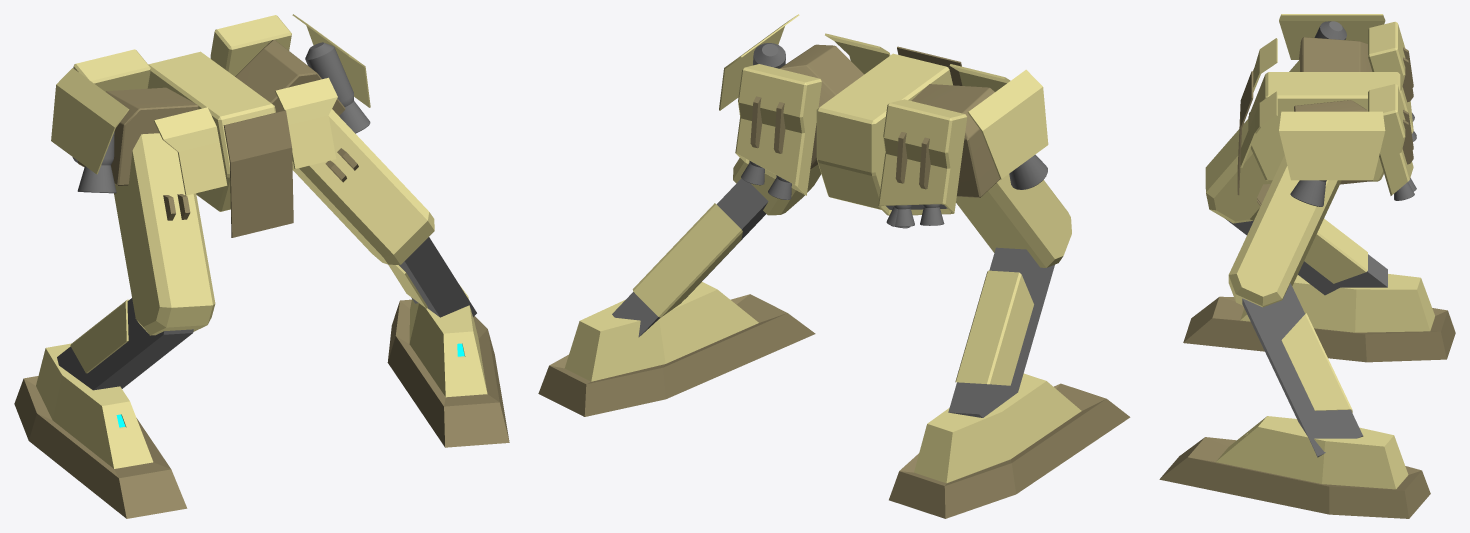
Rendered from LegsRight.fbx.
The picture shows the model from 3 angles, left to right: view 1: azimuth 30°, elevation 25°; view 2: azimuth 150°, elevation 25°; view 3: azimuth 270°, elevation 25°; orthographic projection. The views are drawn at different scales.
Parts seen in each view (by area): view 1: pasted__pCube48, pasted__pCube37, pasted__pCube47, pasted__pCube31, pasted__pasted__pCube36, pasted__pasted__pCube32, pasted__pPlane1, pasted__pCube38, pasted__pPlane4, pasted__pPlane3, pasted__pasted__pCube40, pasted__pasted__pCube39 (+7 smaller); view 2: pasted__pCube47, pasted__pCube48, pasted__pCube33 (×2), pasted__pasted__pCube32, pasted__pCube39, pasted__pCube43, pasted__pCube37, pasted__pPlane1, pasted__pCube38, pasted__pasted__pCube40, pasted__pCube32, pasted__pasted__pCube39 (+9 smaller); view 3: pasted__pCube47, pasted__pCube48, pasted__pCube31, pasted__pPlane2, pasted__pCube33 (×2), pasted__pasted__pCube32, pasted__pCube32, pasted__pCube37, pasted__pCube43, pasted__pPlane1, pasted__pasted__pCube40, pasted__pCube39 (+9 smaller).
Boxes of the visible parts, left/top/right/bottom form: pasted__pCube48: left=14, top=343, right=187, bottom=518; pasted__pCube37: left=114, top=133, right=215, bottom=335; pasted__pCube47: left=387, top=286, right=509, bottom=447; pasted__pCube31: left=292, top=109, right=434, bottom=264; pasted__pasted__pCube36: left=223, top=110, right=293, bottom=237; pasted__pasted__pCube32: left=147, top=51, right=275, bottom=211; pasted__pPlane1: left=51, top=68, right=129, bottom=174; pasted__pCube38: left=57, top=298, right=193, bottom=390; pasted__pPlane4: left=154, top=107, right=227, bottom=195; pasted__pPlane3: left=275, top=77, right=337, bottom=168; pasted__pasted__pCube40: left=77, top=87, right=198, bottom=185; pasted__pasted__pCube39: left=235, top=40, right=345, bottom=115; pasted__pCube47: left=538, top=282, right=815, bottom=416; pasted__pCube48: left=889, top=373, right=1130, bottom=518; pasted__pCube33 (×2): left=632, top=203, right=1033, bottom=385; pasted__pasted__pCube32: left=816, top=53, right=952, bottom=209; pasted__pCube39: left=878, top=99, right=967, bottom=215; pasted__pCube43: left=735, top=64, right=821, bottom=195; pasted__pCube37: left=956, top=174, right=1071, bottom=267; pasted__pPlane1: left=967, top=69, right=1048, bottom=179; pasted__pCube38: left=948, top=247, right=1054, bottom=417; pasted__pasted__pCube40: left=911, top=84, right=1000, bottom=197; pasted__pCube32: left=612, top=178, right=768, bottom=337; pasted__pasted__pCube39: left=779, top=44, right=863, bottom=169; pasted__pCube47: left=1159, top=416, right=1430, bottom=518; pasted__pCube48: left=1183, top=274, right=1455, bottom=362; pasted__pCube31: left=1228, top=155, right=1341, bottom=307; pasted__pPlane2: left=1279, top=111, right=1385, bottom=180; pasted__pCube33 (×2): left=1281, top=218, right=1367, bottom=412; pasted__pasted__pCube32: left=1248, top=72, right=1400, bottom=181; pasted__pCube32: left=1242, top=283, right=1363, bottom=457; pasted__pCube37: left=1205, top=59, right=1299, bottom=223; pasted__pCube43: left=1368, top=84, right=1413, bottom=195; pasted__pPlane1: left=1279, top=14, right=1385, bottom=59; pasted__pasted__pCube40: left=1299, top=37, right=1372, bottom=71; pasted__pCube39: left=1368, top=21, right=1413, bottom=133.
Bounding box in the file's own units: 18.84 × 14.31 × 11.76.
